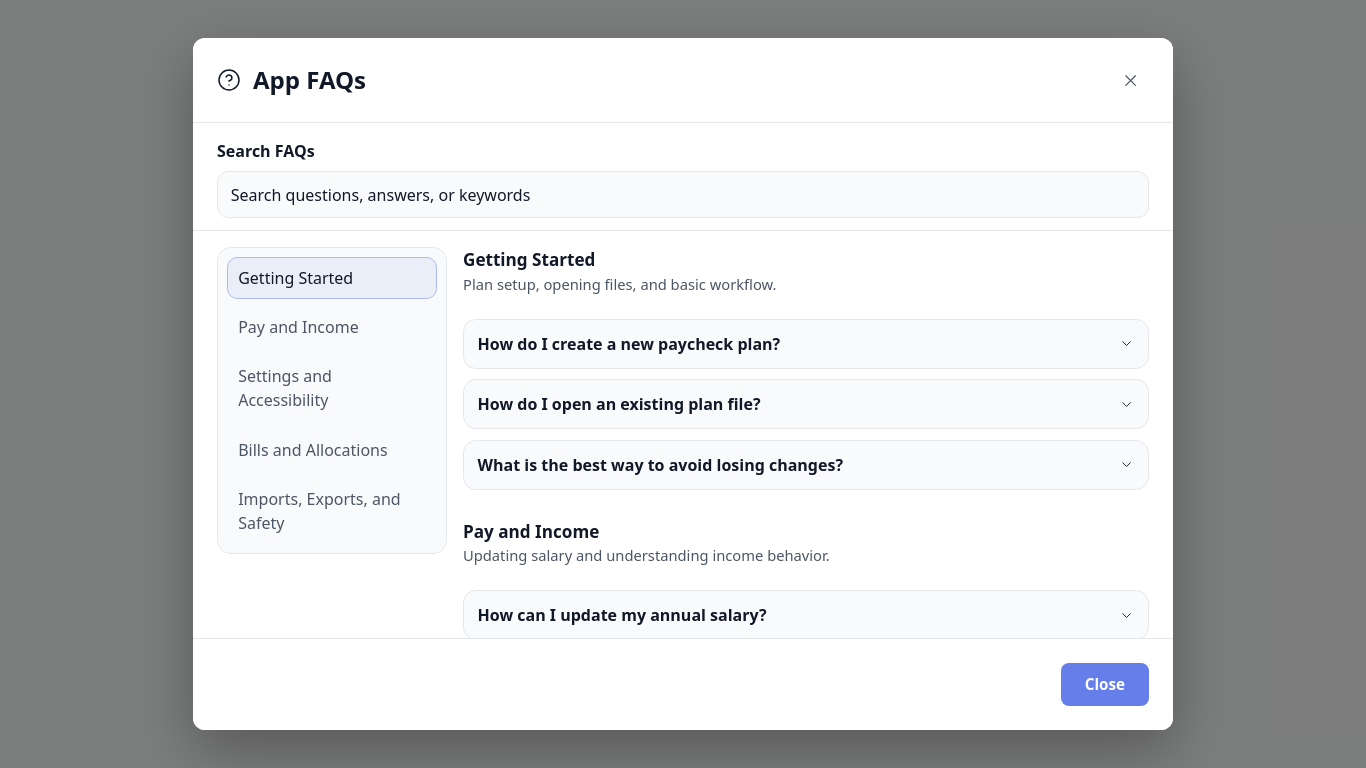
AppFaqModal › opens and closes question drawers
Click the button "How can I update my annual salary?": (622, 615) x1=464 y1=591 x2=1148 y2=639
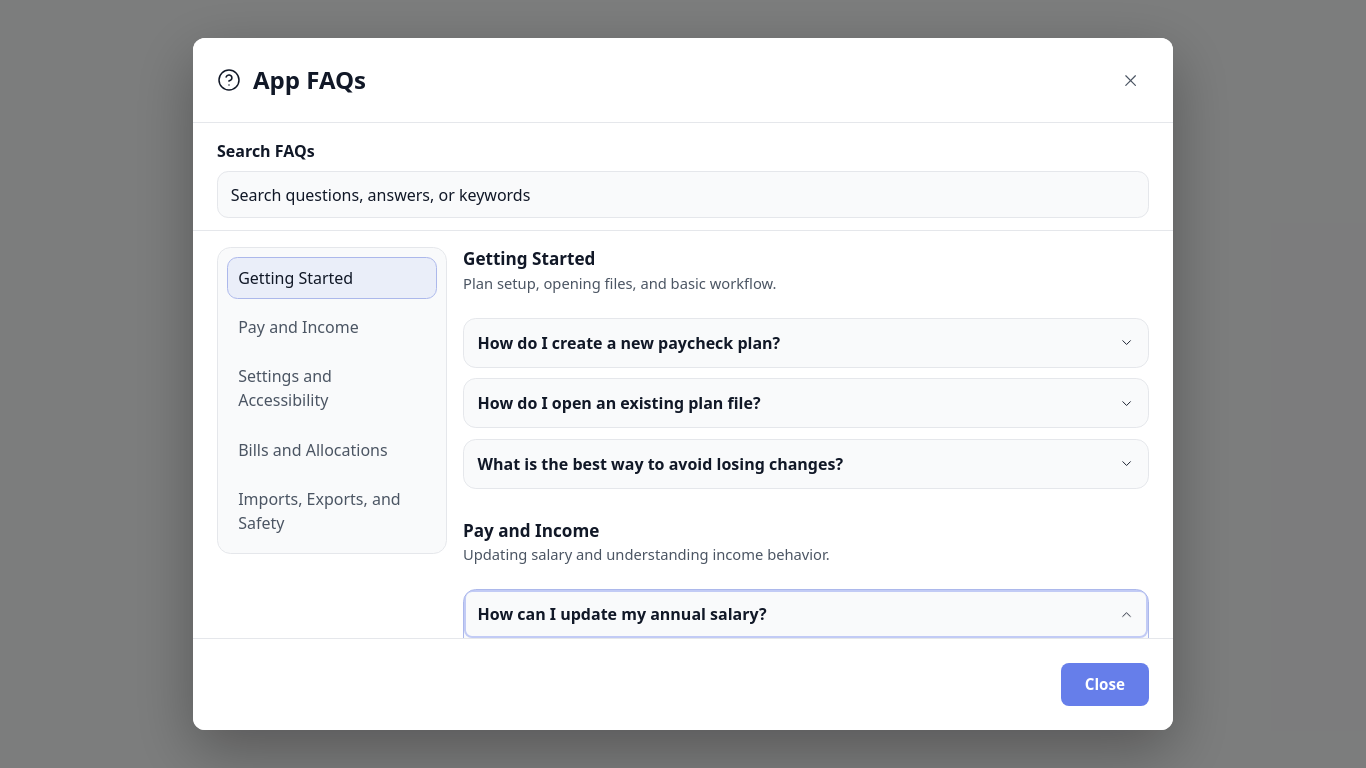
Now the button "How can I update my annual salary?" is expanded
Click the button "How can I update my annual salary?": (622, 614) x1=464 y1=590 x2=1148 y2=638
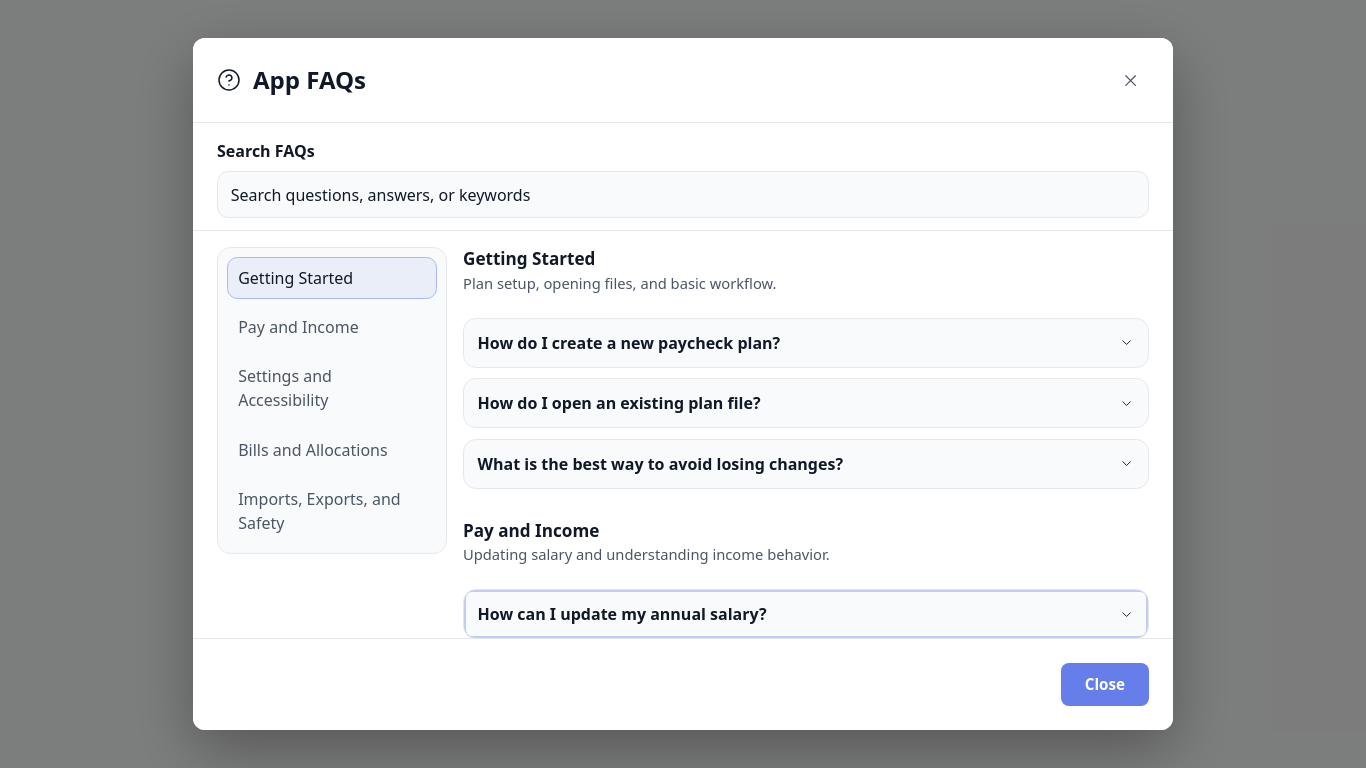
Now the button "How can I update my annual salary?" is collapsed, box x1=464 y1=590 x2=1148 y2=638
